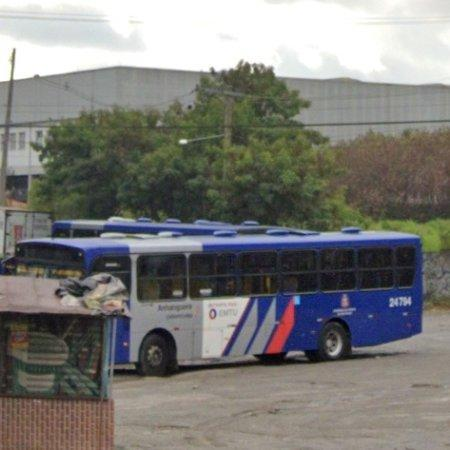buses: (14, 229, 424, 376), (52, 217, 317, 238)
